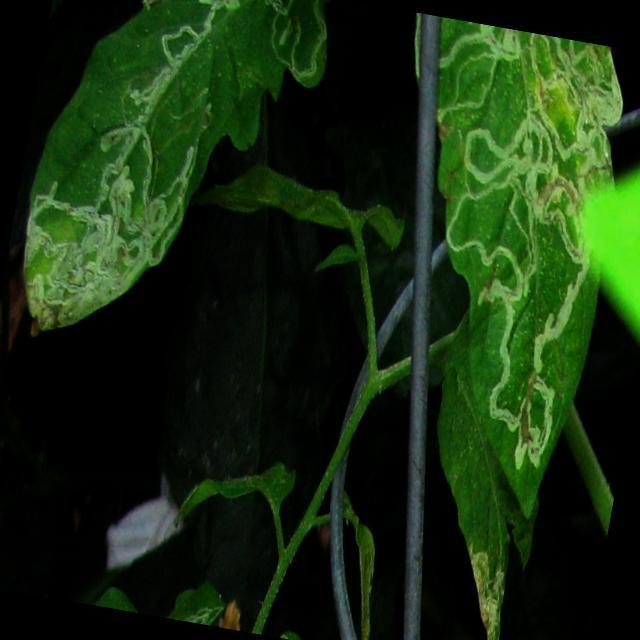Tomato target spot leaf: (22, 0, 331, 337), (434, 19, 622, 529)
